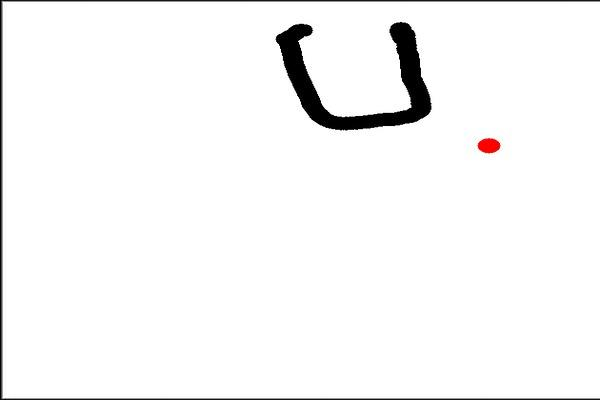U: (264, 11, 441, 133)
